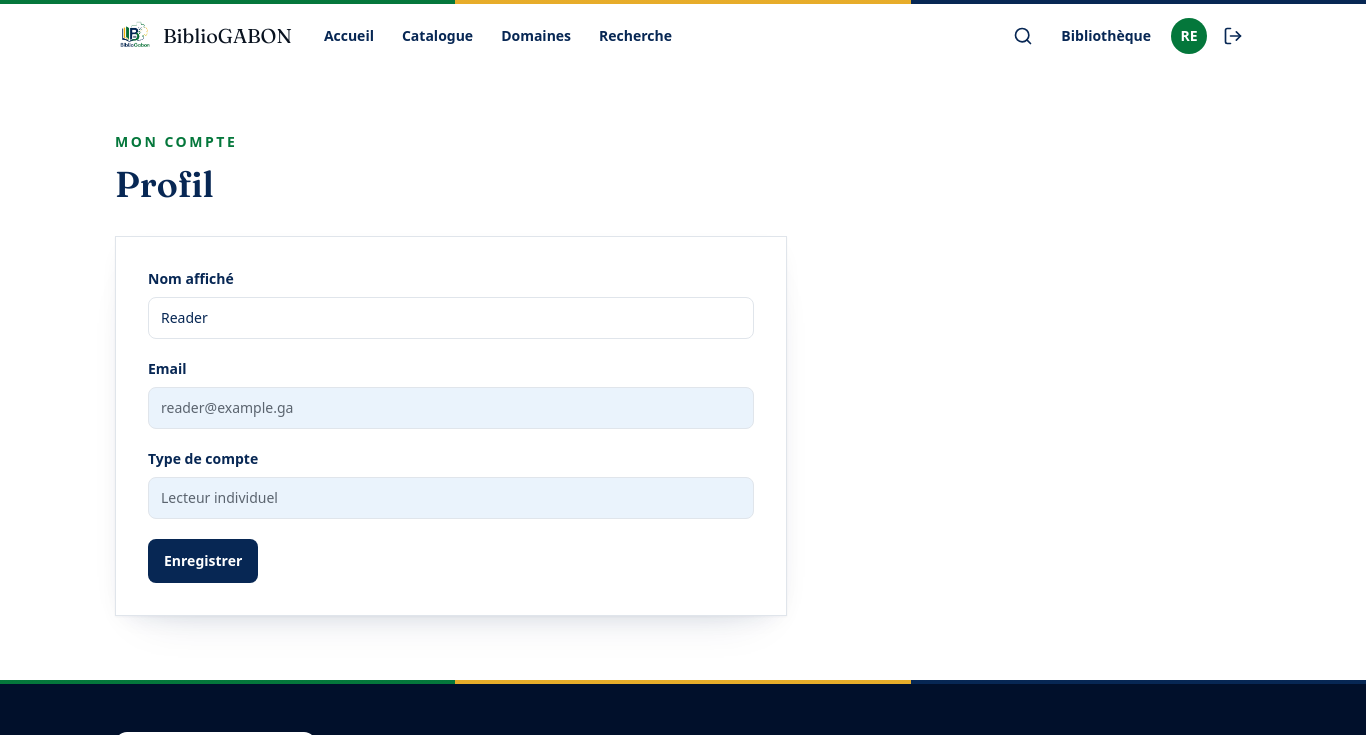
Test: AuthProvider › shows normalized profile field errors after a failed update
Step 1. Click the button "Enregistrer" → (203, 561), box [148,539,258,583]
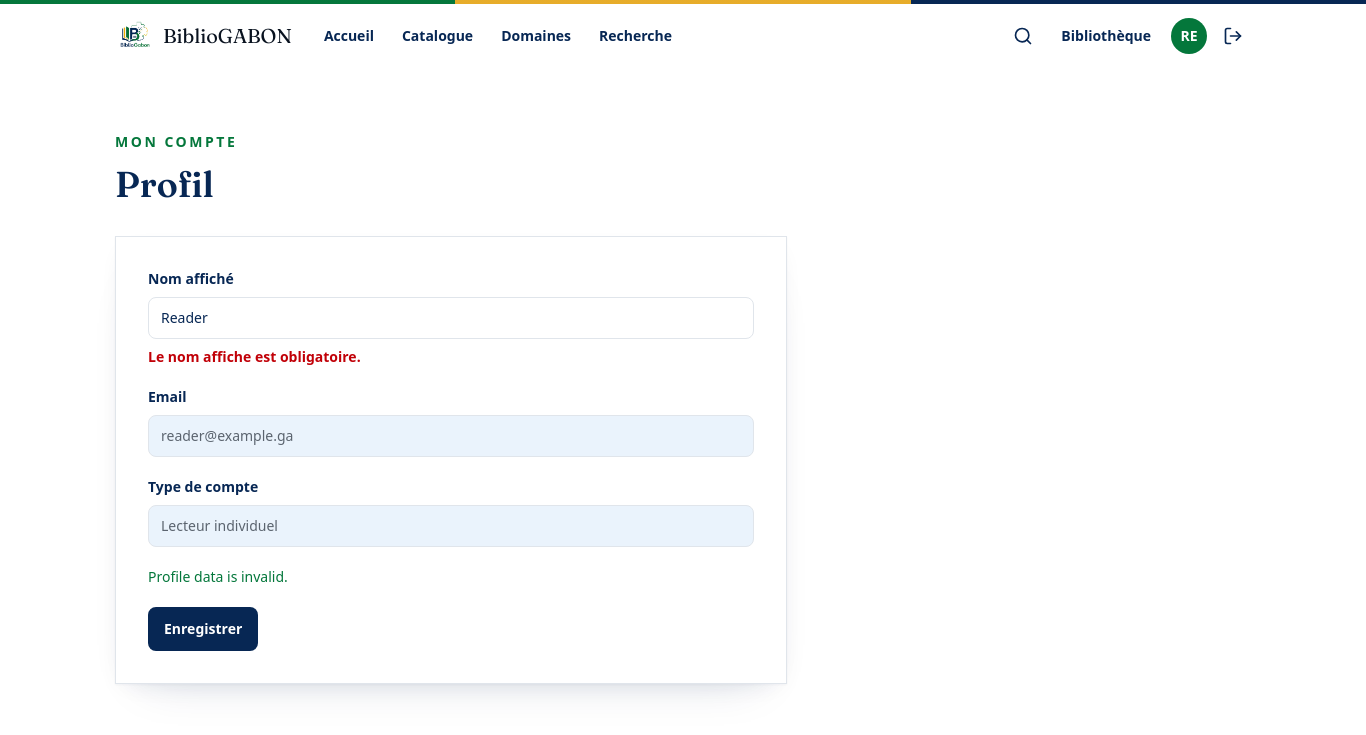
Result: the text "Le nom affiche est obligatoire." is shown at [148,347,361,366]
